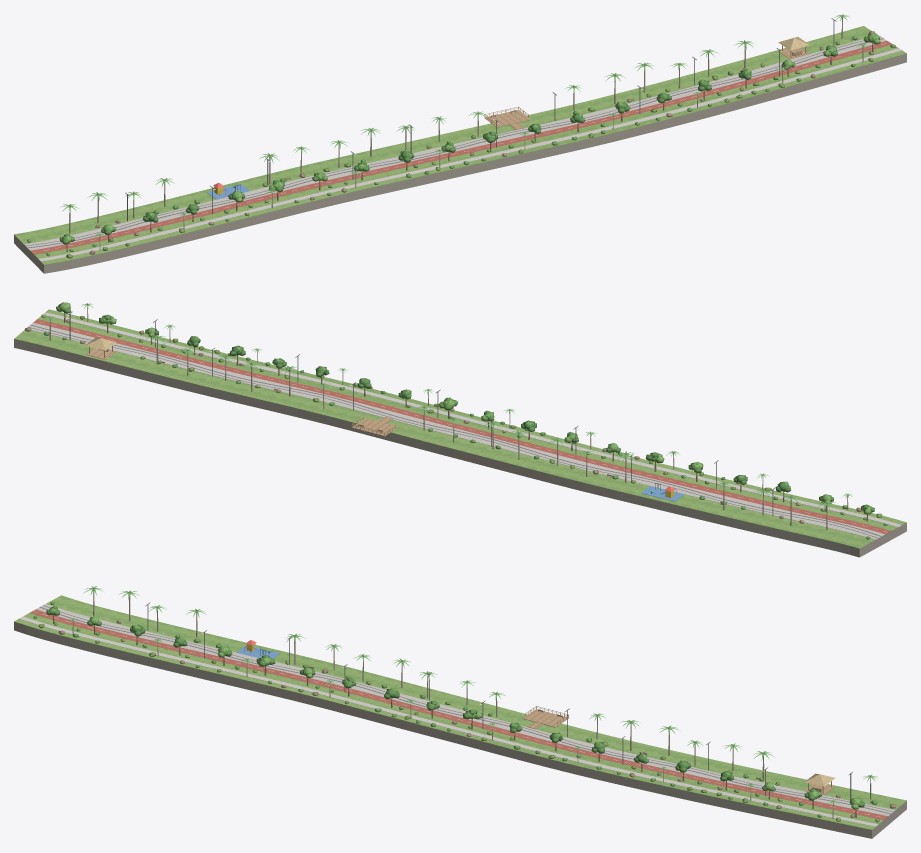
The model's file is parque_14.glb.
3 renders of one model, top to bottom at view 1: azimuth 30°, elevation 25°; view 2: azimuth 150°, elevation 25°; view 3: azimuth 330°, elevation 25°, orthographic.
Parts seen in each view (by area): view 1: parque_14; view 2: parque_14; view 3: parque_14.
Boxes of the visible parts, bbox=[...] form: parque_14: bbox=[14, 18, 906, 273]; parque_14: bbox=[14, 309, 906, 557]; parque_14: bbox=[14, 595, 906, 838].
Bounding box in the file's own units: 305 × 13.31 × 29.05.
Materials: 27 (14 with a texture image).
